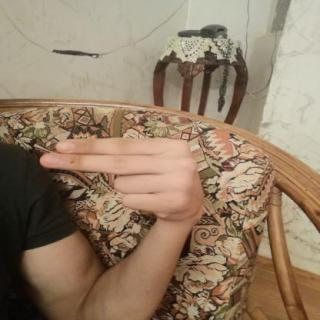AYN: (21, 125, 224, 233)
